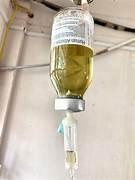Iv_Bottle: (50, 7, 93, 98)
Syringe: (63, 112, 77, 179)
